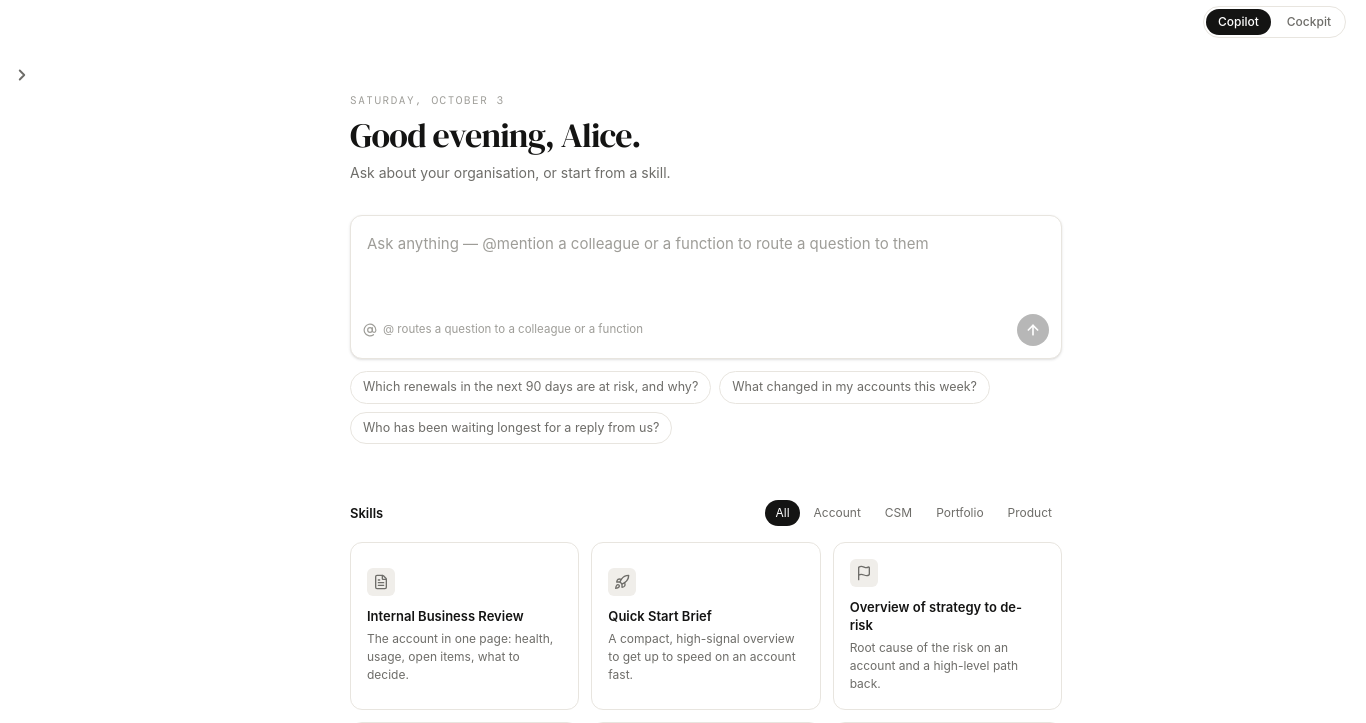
Test: Copilot (/copilot) › selecting a past conversation loads its real messages
The width and height of the screenshot is (1366, 723).
Click the button named "Expand sidebar".
click(23, 74)  # box [11,60,35,88]
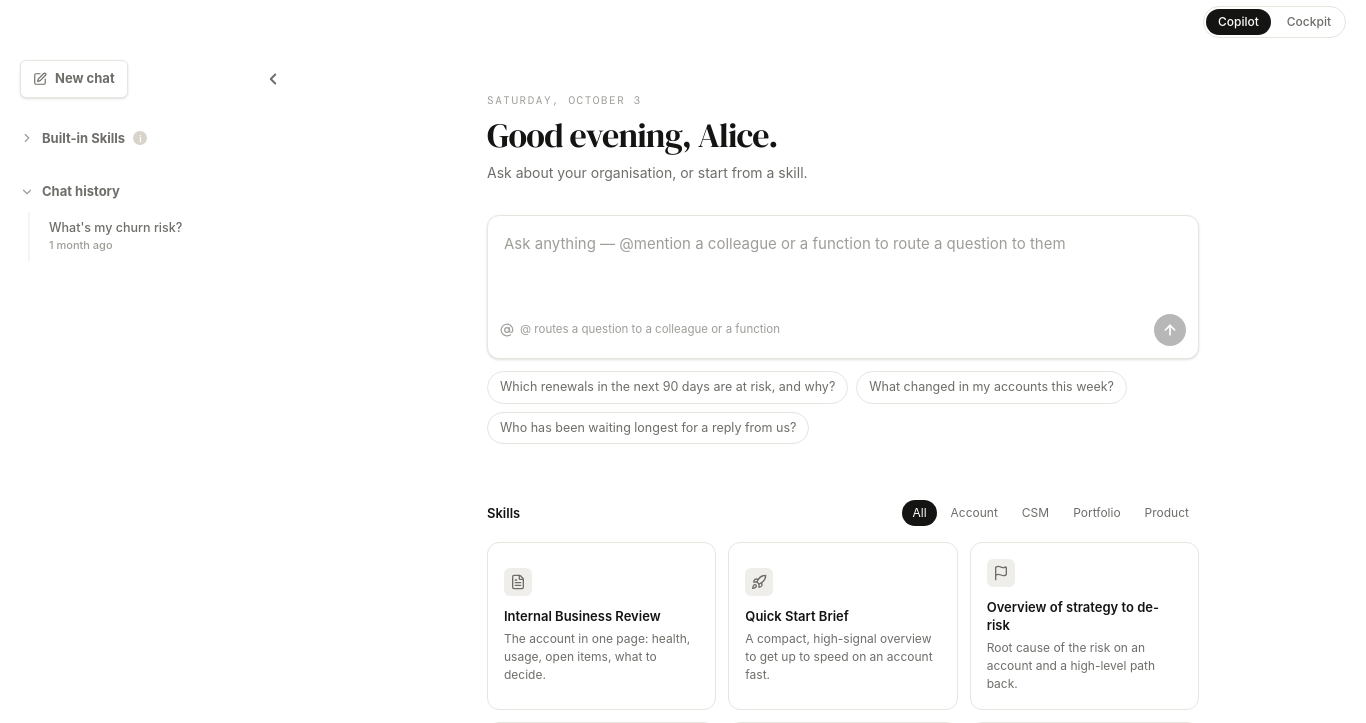
Click the text "What's my churn risk?".
click(116, 227)  # box [49,220,182,234]
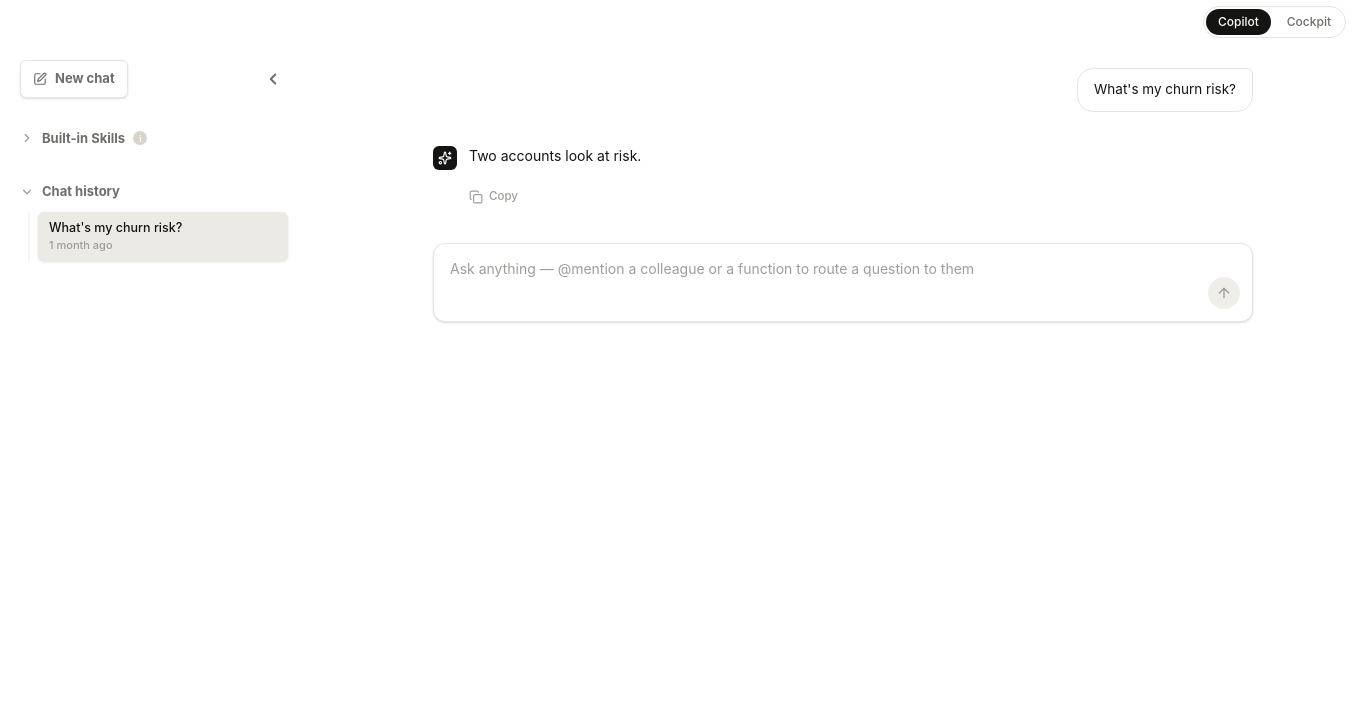
Expected: the text "Two accounts look at risk." is shown, [469,147,641,164]
